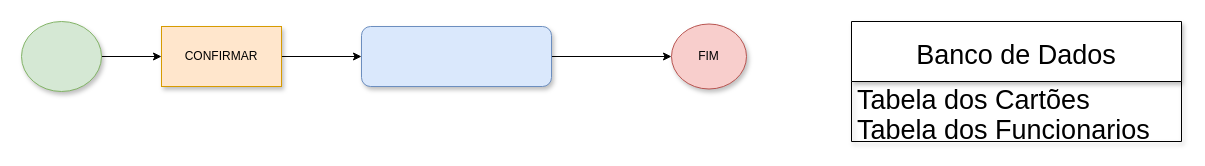
This 1205x166 diagram has some shape labels left out. Each missing label, with the centre of its shape:
"Dessasocia o cartão do funcionario e muda o status para cancelado." belongs at [457,58].
"INICIO" belongs at [62,57].
